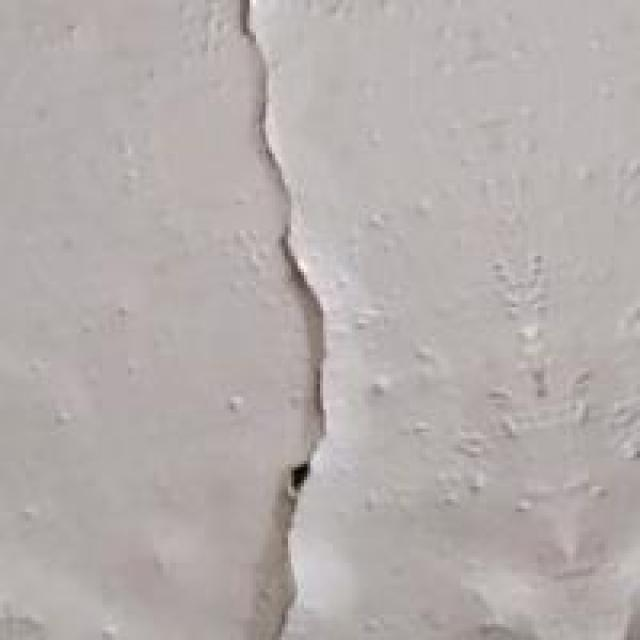crack: (185, 0, 394, 637)
